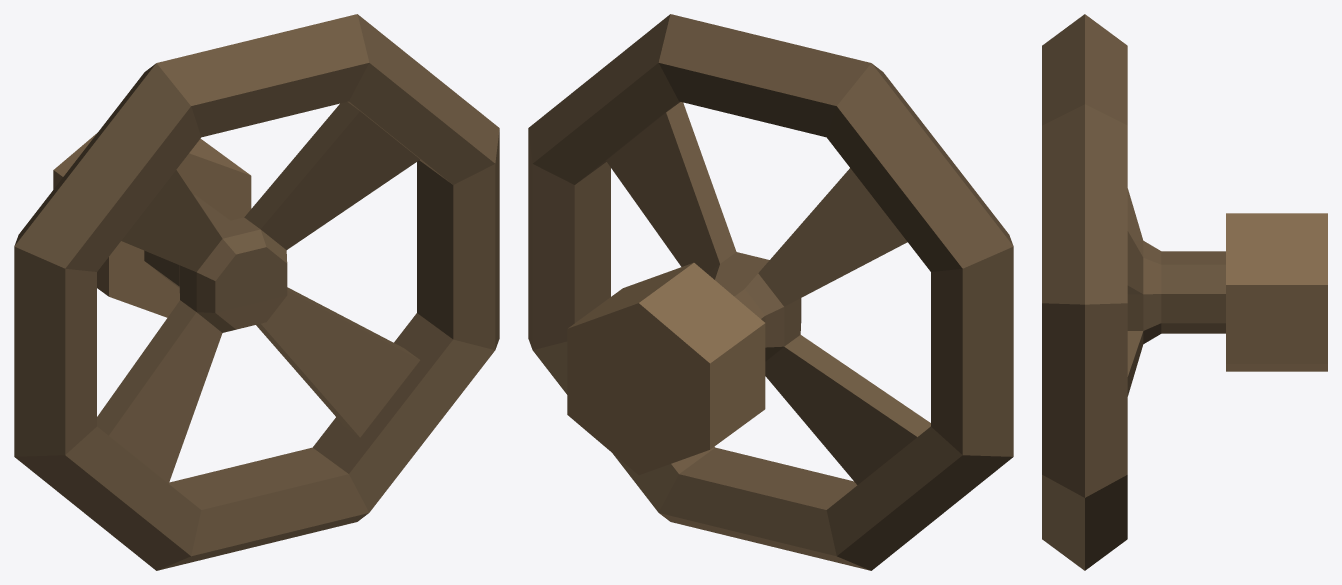
File: SM_Prop_Pipe_Valve_01.fbx
3 renders of one model, left to right at view 1: azimuth 30°, elevation 25°; view 2: azimuth 150°, elevation 25°; view 3: azimuth 270°, elevation 25°, orthographic. The views are drawn at different scales.
Parts seen in each view (by area): view 1: SM_Prop_Pipe_Valve_01_Wheel, SM_Prop_Pipe_Valve_01; view 2: SM_Prop_Pipe_Valve_01_Wheel, SM_Prop_Pipe_Valve_01; view 3: SM_Prop_Pipe_Valve_01_Wheel, SM_Prop_Pipe_Valve_01.
Part boxes in pixels (bbox=[...]): SM_Prop_Pipe_Valve_01_Wheel: bbox=[14, 14, 499, 570]; SM_Prop_Pipe_Valve_01: bbox=[53, 132, 251, 317]; SM_Prop_Pipe_Valve_01_Wheel: bbox=[528, 14, 1013, 570]; SM_Prop_Pipe_Valve_01: bbox=[567, 262, 765, 475]; SM_Prop_Pipe_Valve_01_Wheel: bbox=[1042, 14, 1225, 570]; SM_Prop_Pipe_Valve_01: bbox=[1226, 213, 1327, 371].
Bounding box in the file's own units: 38.69 × 38.69 × 21.47.
